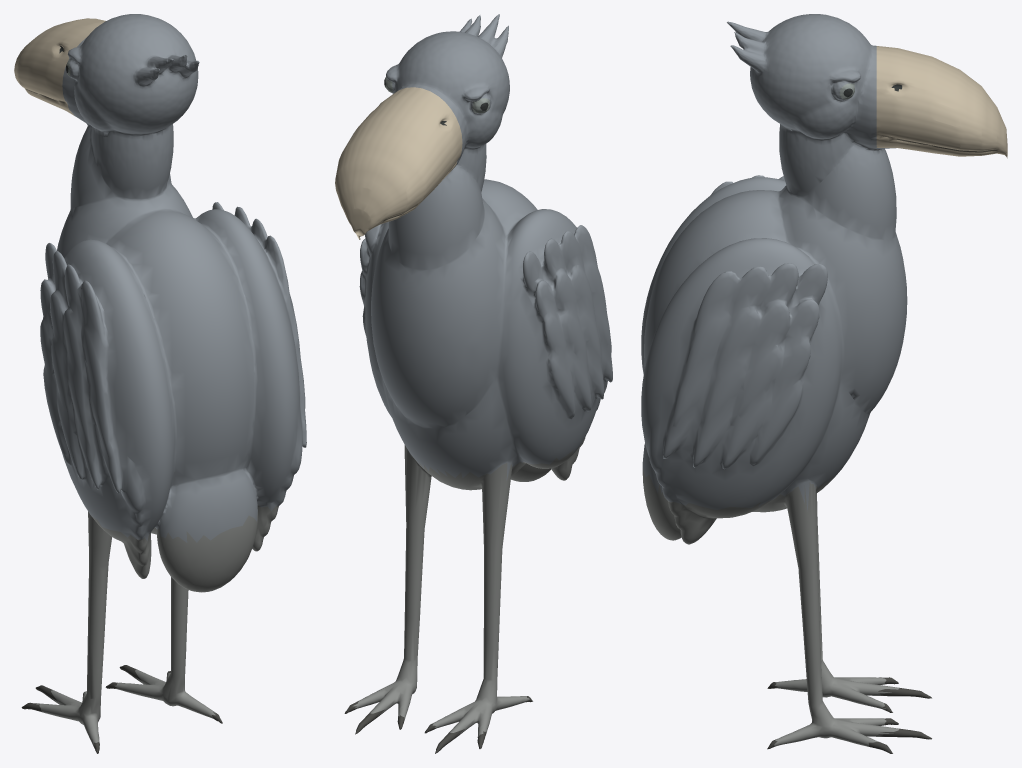
The model's file is NEW443_Shoebill_LOD1.glb.
3 renders of one model, left to right at view 1: azimuth 30°, elevation 25°; view 2: azimuth 150°, elevation 25°; view 3: azimuth 270°, elevation 25°, orthographic. The views are drawn at different scales.
Parts seen in each view (by area): view 1: Shoebill_Complete_Skin_LOD1; view 2: Shoebill_Complete_Skin_LOD1; view 3: Shoebill_Complete_Skin_LOD1.
Part boxes in pixels (x1,y1,x2,y2): Shoebill_Complete_Skin_LOD1: [14, 14, 306, 753]; Shoebill_Complete_Skin_LOD1: [335, 14, 612, 753]; Shoebill_Complete_Skin_LOD1: [641, 14, 1007, 753].
Bounding box in the file's own units: 0.3962 × 1.25 × 0.594.
